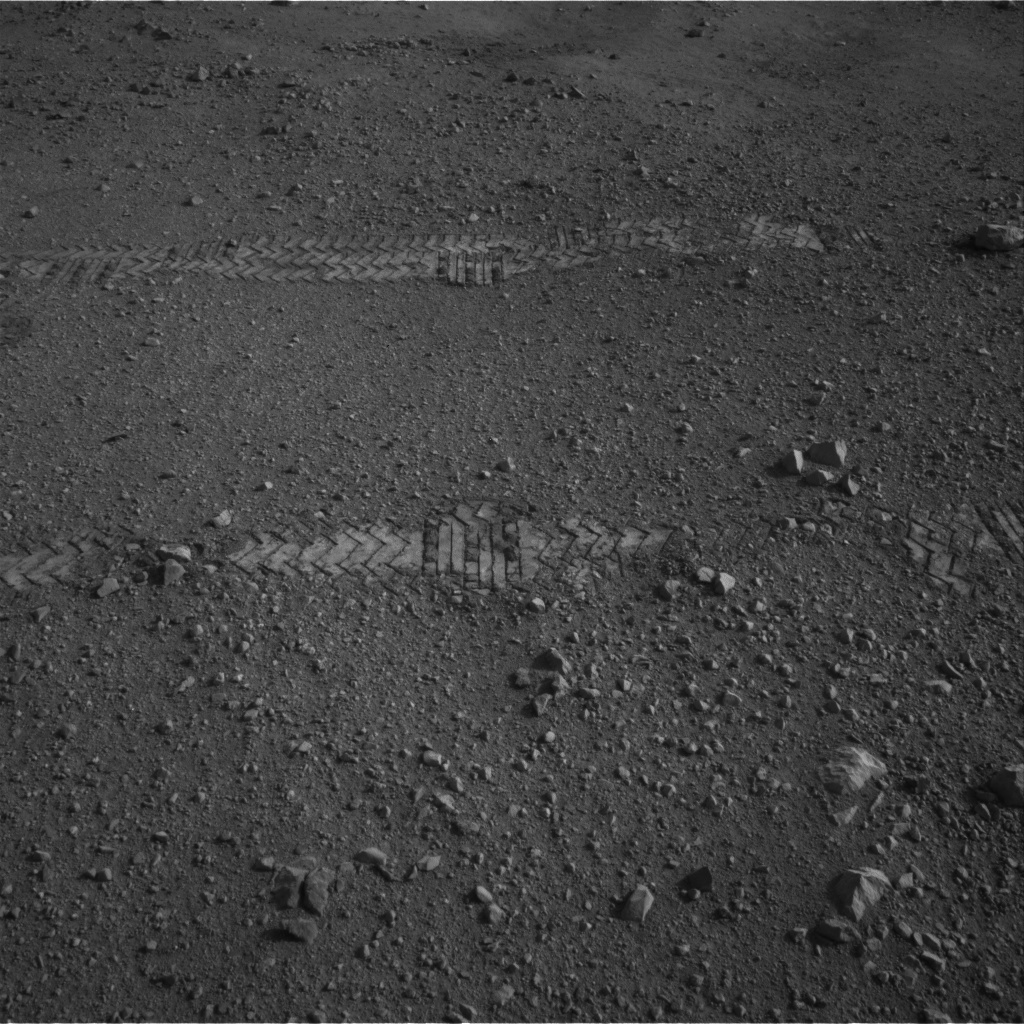soil: (6, 11, 1015, 1016)
